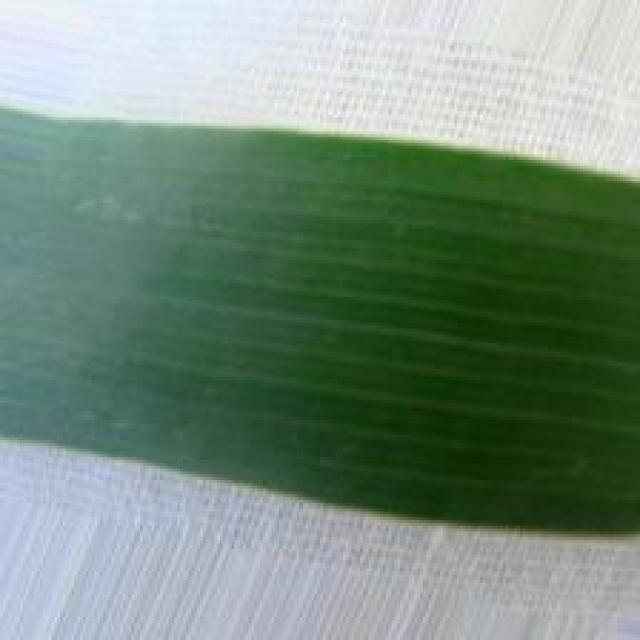Healthy: (0, 111, 640, 534)
